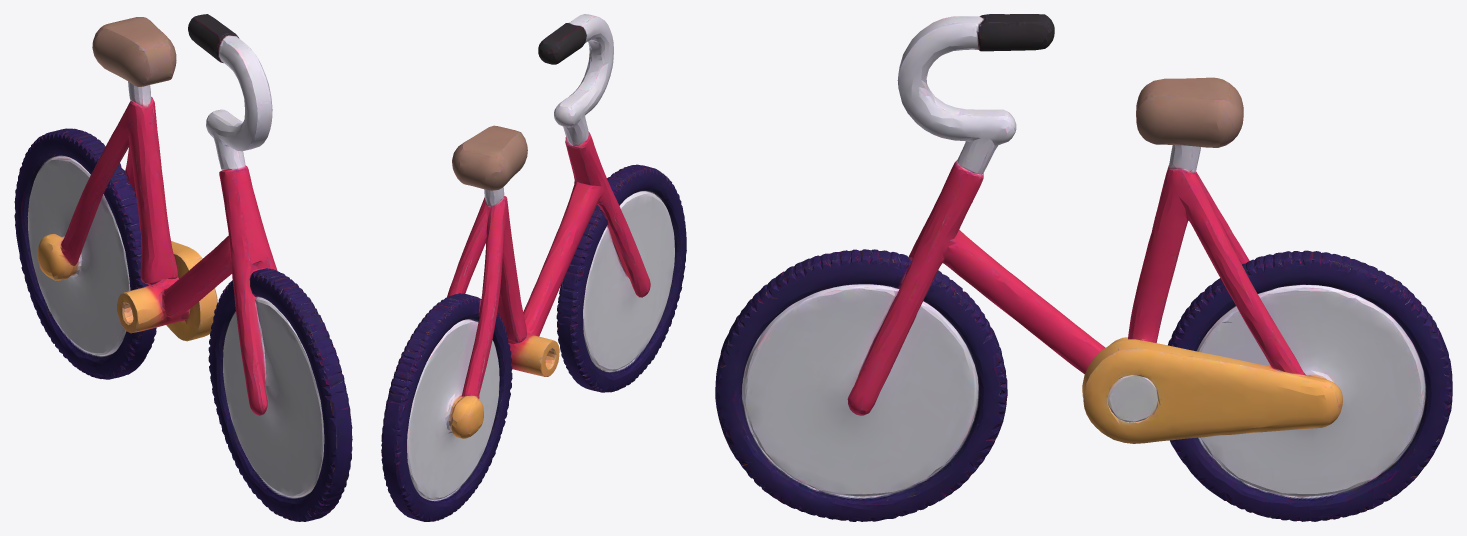
File: bicycle.glb
3 views of the same model, side by side, from view 1: azimuth 30°, elevation 25°; view 2: azimuth 150°, elevation 25°; view 3: azimuth 270°, elevation 25° (orthographic). The views are drawn at different scales.
Parts seen in each view (by area): view 1: Mesh; view 2: Mesh; view 3: Mesh.
Boxes of the visible parts, x1,y1,x2,y2 form: Mesh: [14, 14, 352, 521]; Mesh: [381, 14, 686, 521]; Mesh: [715, 14, 1452, 521].
Size of the model in its own units: 0.1398 by 0.7486 by 1.
Materials: 1 (1 with a texture image).
